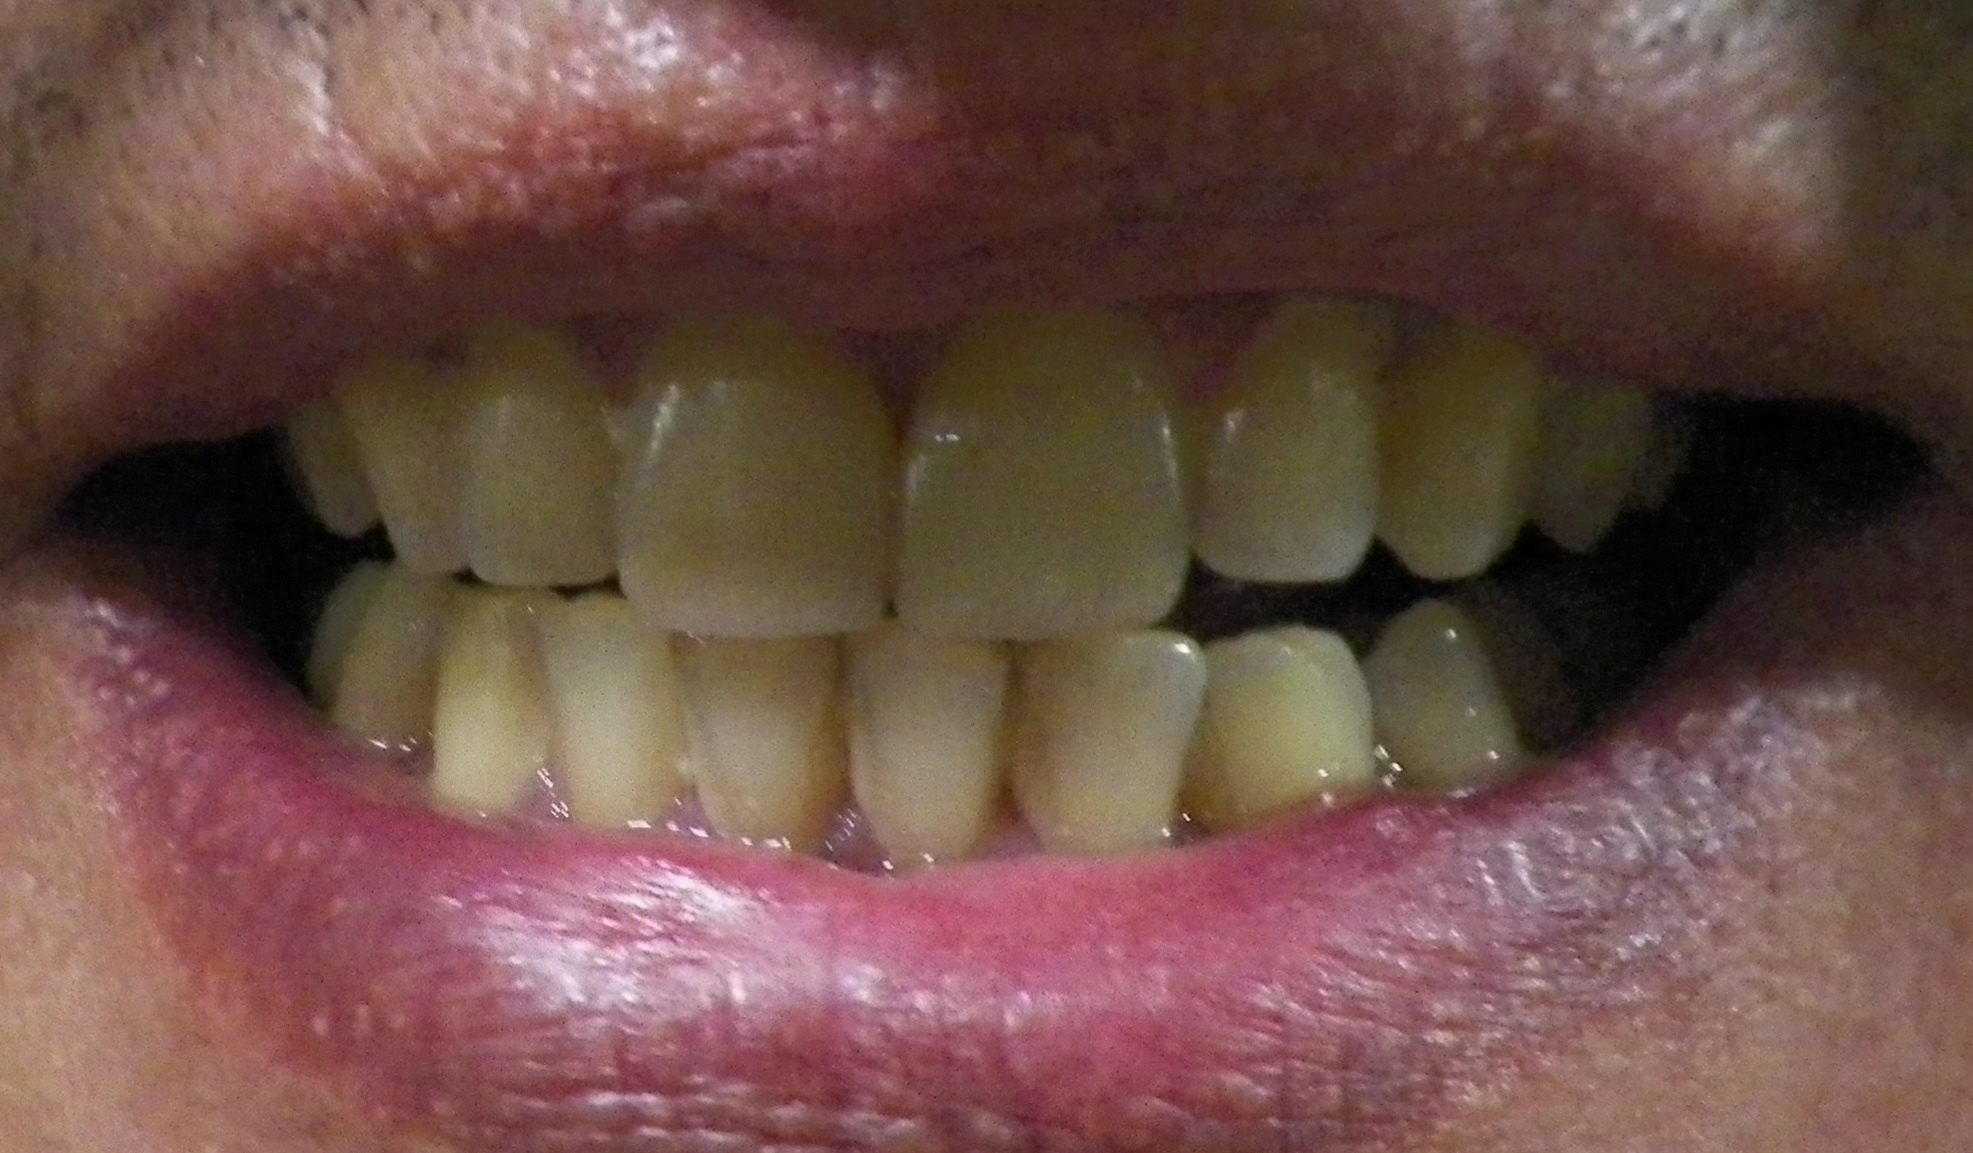boca: (291, 329, 1710, 858)
